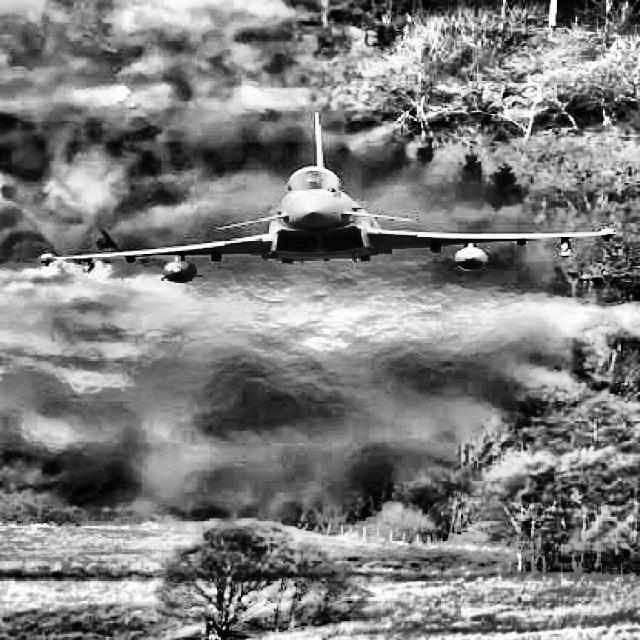EF2000: (36, 112, 616, 283)
